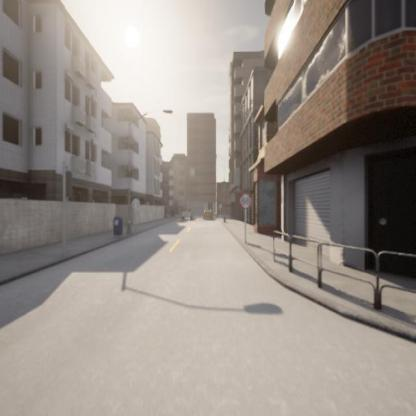traffic_sign_60: (240, 194, 251, 208)
